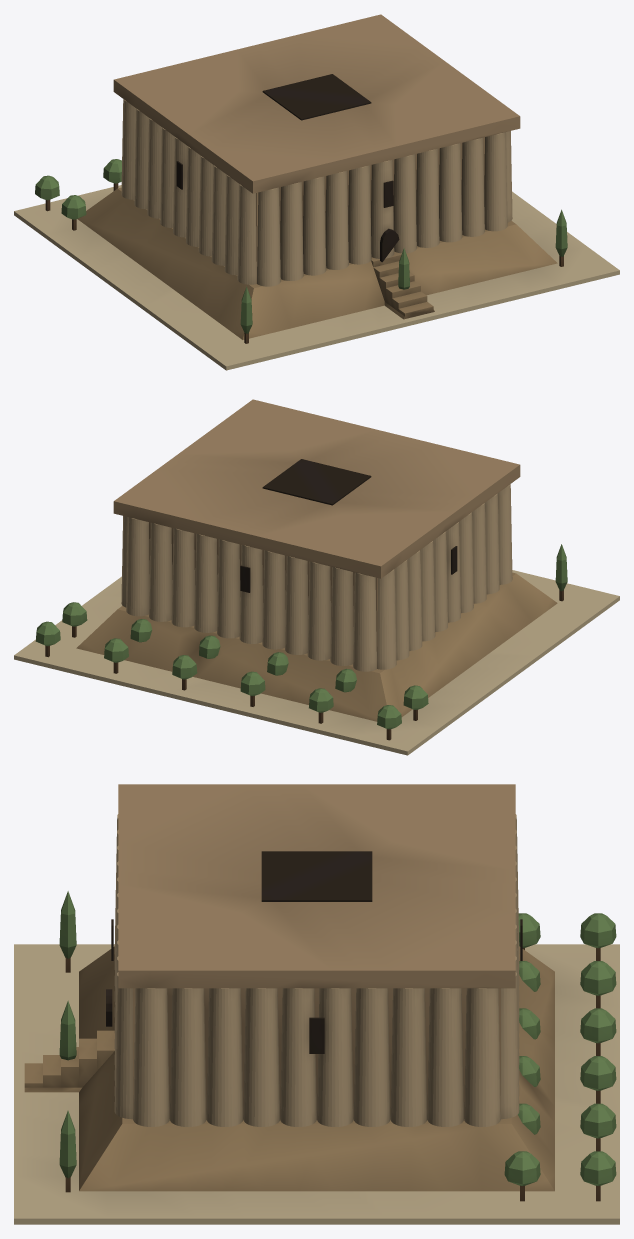
File: small-kyz-kala.glb
3 renders of one model, top to bottom at view 1: azimuth 30°, elevation 25°; view 2: azimuth 150°, elevation 25°; view 3: azimuth 270°, elevation 25°, orthographic. The views are drawn at different scales.
Parts seen in each view (by area): view 1: p1_corrugated walls, p0_plinth; view 2: p1_corrugated walls, p0_plinth; view 3: p1_corrugated walls, p0_plinth.
Boxes of the visible parts, x1,y1,x2,y2 form: p1_corrugated walls: [35, 14, 520, 319]; p0_plinth: [14, 185, 619, 370]; p1_corrugated walls: [35, 399, 520, 740]; p0_plinth: [14, 544, 619, 755]; p1_corrugated walls: [24, 784, 616, 1201]; p0_plinth: [14, 891, 619, 1224].
Bounding box in the file's own units: 30 × 10.8 × 28.
